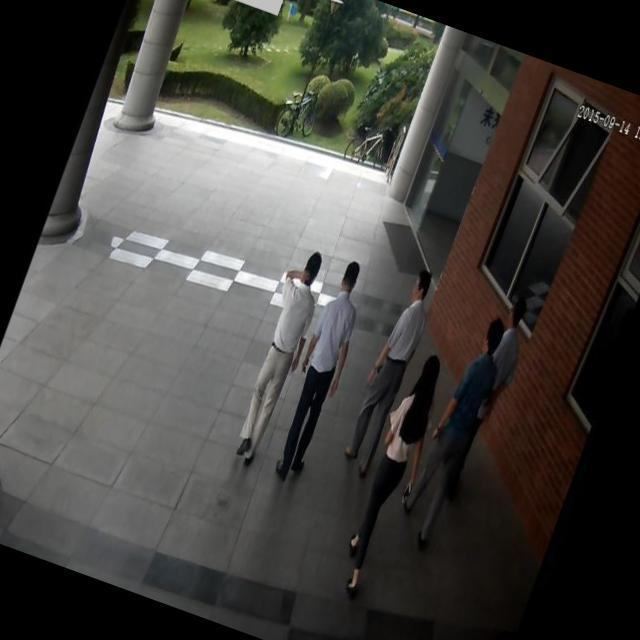person: (381, 294, 528, 566), (321, 338, 464, 612), (211, 228, 341, 482), (259, 242, 390, 491), (422, 272, 552, 521), (331, 239, 458, 487)
